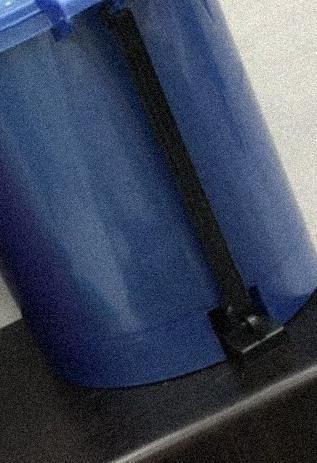Bote de Basura: (0, 0, 316, 397)
